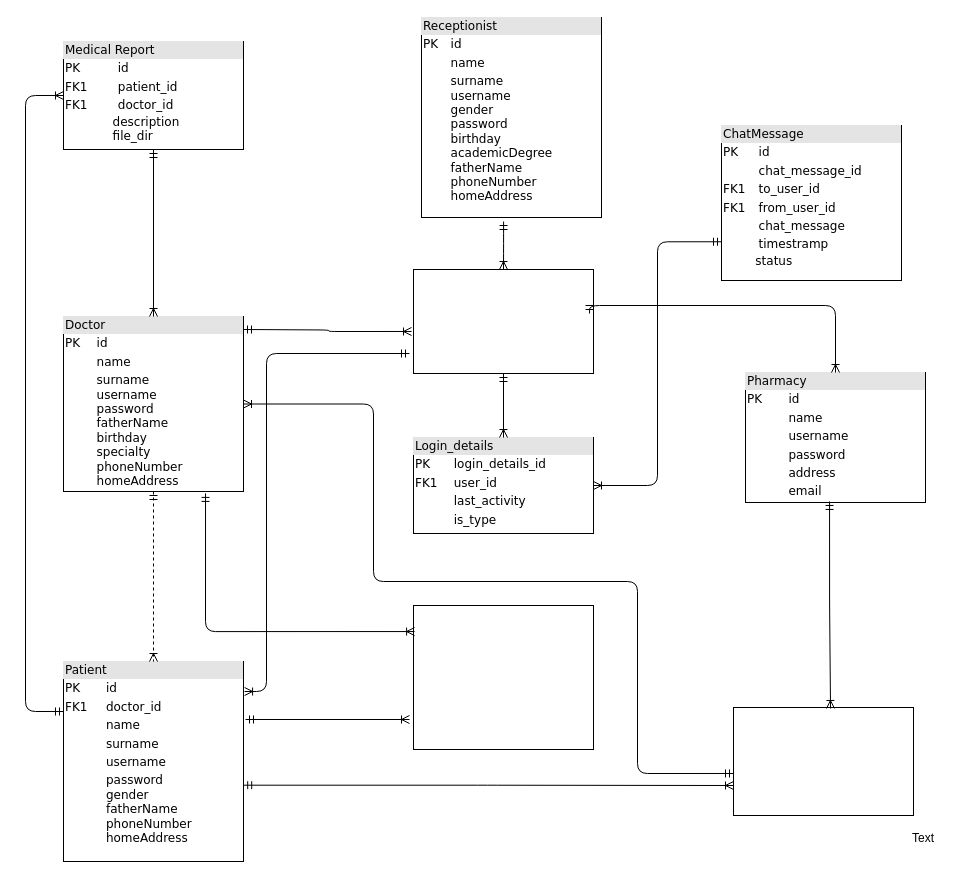
Some shapes in this 964 by 879 pixel diagram are drawn without their labels. The shapes that lost their labels are listed below. From the top down, each one's box as (x1, y1, x2, y2) in pixels, then its label:
(412, 268, 594, 374): Login PK id user_id username password
(412, 604, 594, 750): Appointment PK id FK1 patient_id date hour FK1 doctor_id
(732, 706, 914, 816): Prescrioption PK id FK1 doctor_id FK1 patient_id FK1 parmacy_id served
